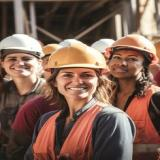Helmet: (43, 44, 111, 74), (105, 34, 158, 66), (0, 33, 45, 57), (84, 38, 121, 55), (40, 44, 65, 56), (60, 39, 86, 47)
Vest: (32, 102, 112, 160), (104, 82, 158, 160)
